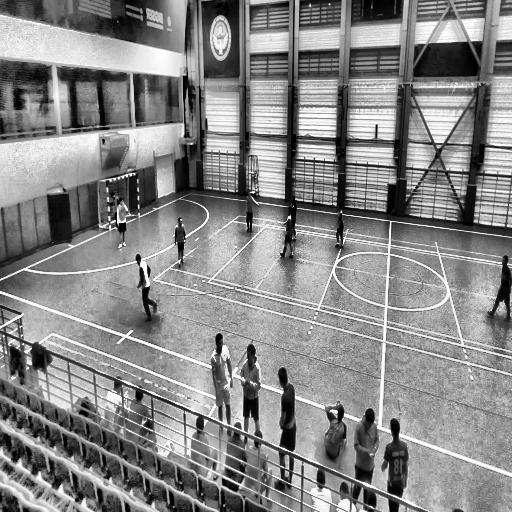player: (352, 406, 379, 507), (381, 417, 408, 512), (276, 368, 296, 490), (239, 343, 262, 442), (212, 332, 234, 432), (487, 255, 512, 322), (136, 254, 158, 324), (280, 200, 295, 258), (286, 193, 300, 242), (116, 195, 128, 250), (246, 191, 260, 234), (175, 218, 186, 268), (108, 190, 119, 233), (335, 202, 345, 249)
